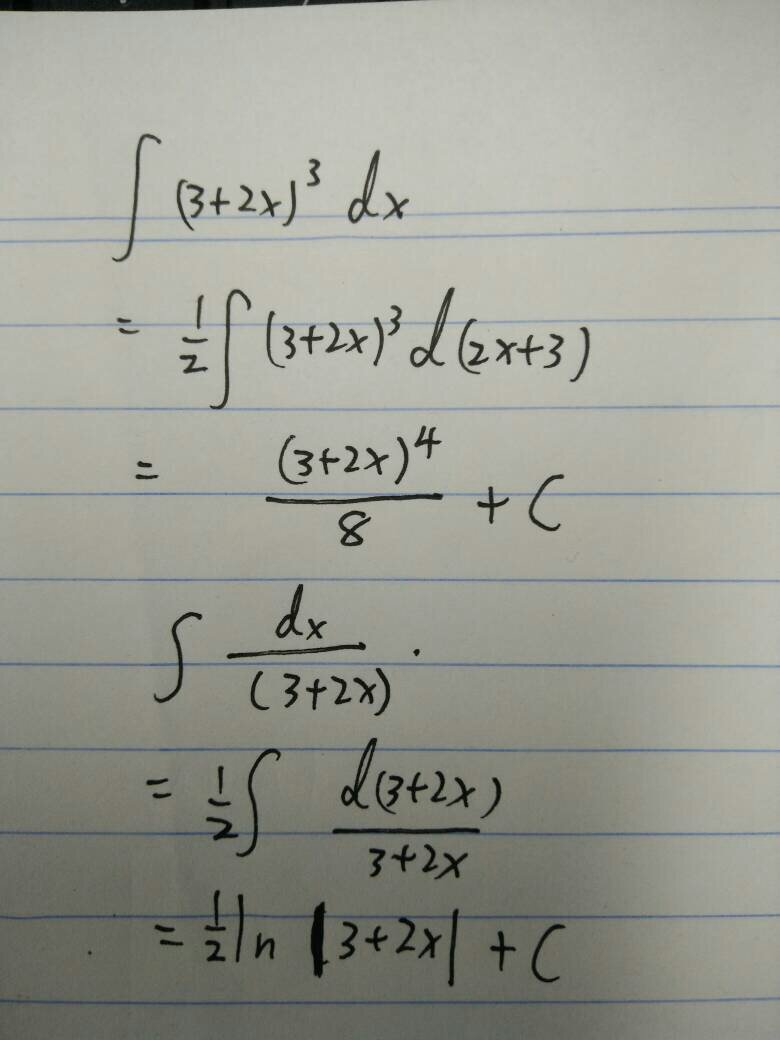cube: (382, 304, 411, 338), (302, 149, 322, 195)
